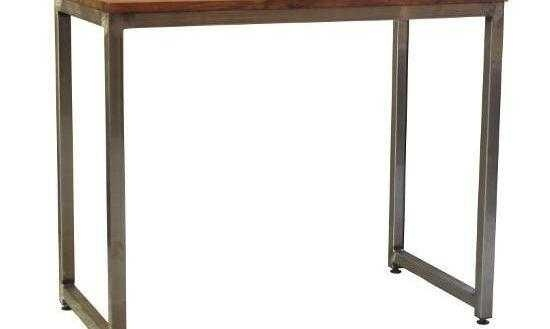obstacle: (55, 0, 503, 327)
